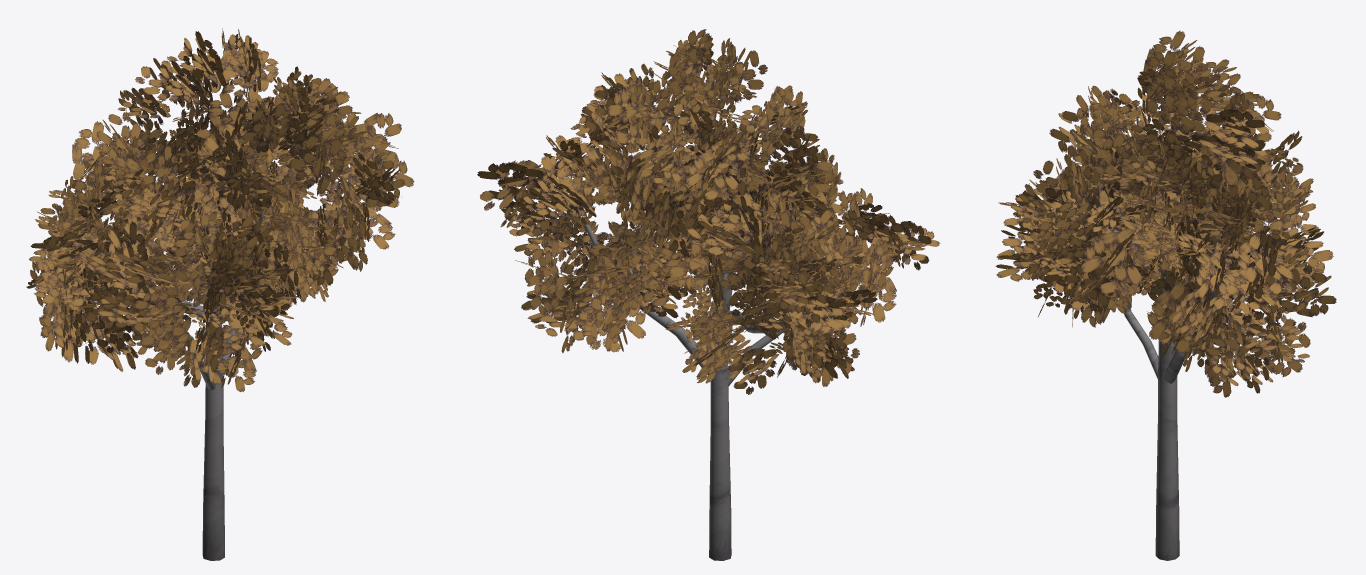
File: YellowTree.fbx
The picture shows the model from 3 angles, left to right: view 1: azimuth 30°, elevation 25°; view 2: azimuth 150°, elevation 25°; view 3: azimuth 270°, elevation 25°; orthographic projection.
Parts seen in each view (by area): view 1: YellowTree; view 2: YellowTree; view 3: YellowTree.
Boxes of the visible parts, x1=… form: YellowTree: x1=26, y1=28, x2=414, y2=560; YellowTree: x1=477, y1=29, x2=940, y2=560; YellowTree: x1=995, y1=30, x2=1336, y2=560.
Size of the model in its own units: 708 by 941 by 583.
